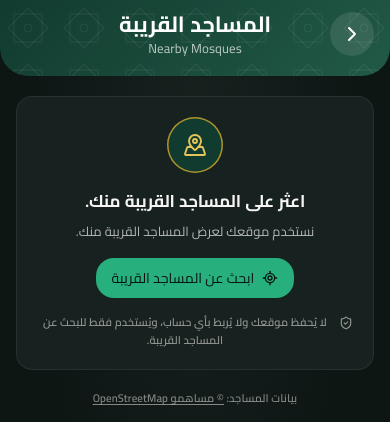
Test: Nearby Mosques — permission and location states › location unavailable or timed out: explained, with a working retry
The width and height of the screenshot is (390, 422).
Later steps or results of the test are not shown.
Click the button with test id "mosques-start": (195, 278) x1=96 y1=258 x2=294 y2=298
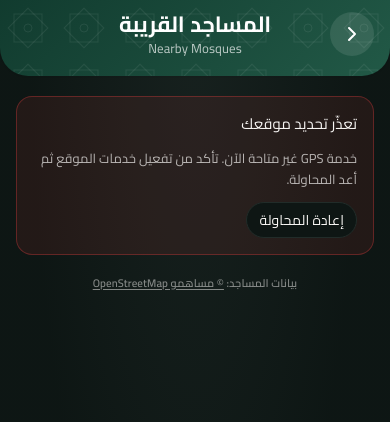
Check: the element with test id "mosques-unavailable" is shown, box x1=16 y1=96 x2=374 y2=255
Check: the text "خدمة GPS غير متاحة الآن" is shown, box x1=41 y1=146 x2=357 y2=191
Click the button with test id "mosques-retry": (302, 220) x1=246 y1=202 x2=357 y2=238
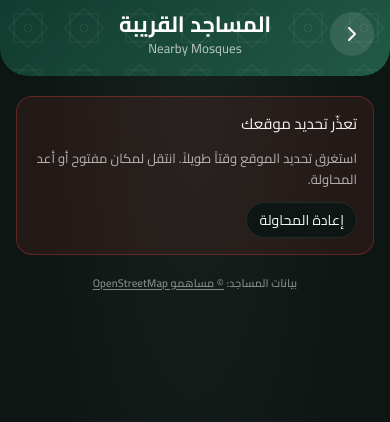
Check: the text "استغرق تحديد الموقع وقتاً طويلاً" is shown, box x1=37 y1=146 x2=357 y2=191
